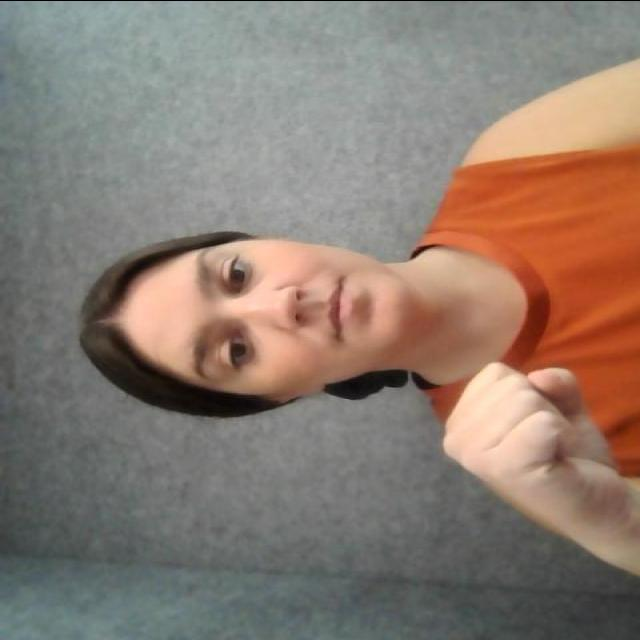Rock: (398, 309, 640, 529)
